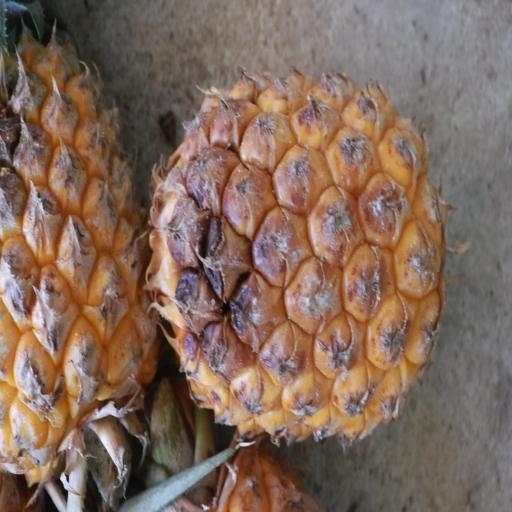Pineapple - v8 v1: (145, 73, 448, 447), (0, 4, 159, 512)
